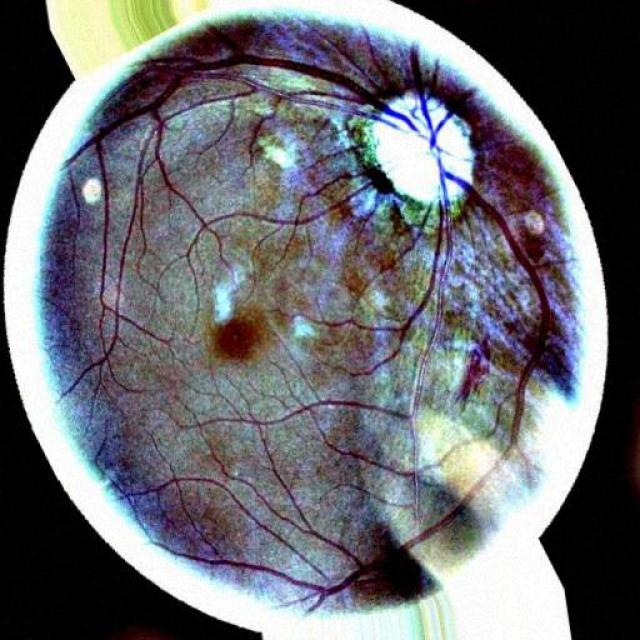Macula: (214, 318, 262, 360)
Nerves: (65, 46, 556, 456), (300, 290, 440, 438), (261, 144, 429, 258), (390, 490, 472, 559), (456, 335, 489, 402)
Optic Disk: (370, 92, 472, 204)
